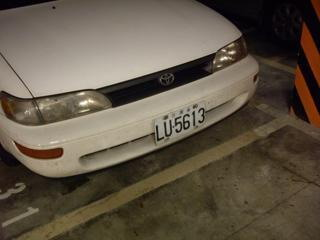plate: (152, 102, 207, 143)
